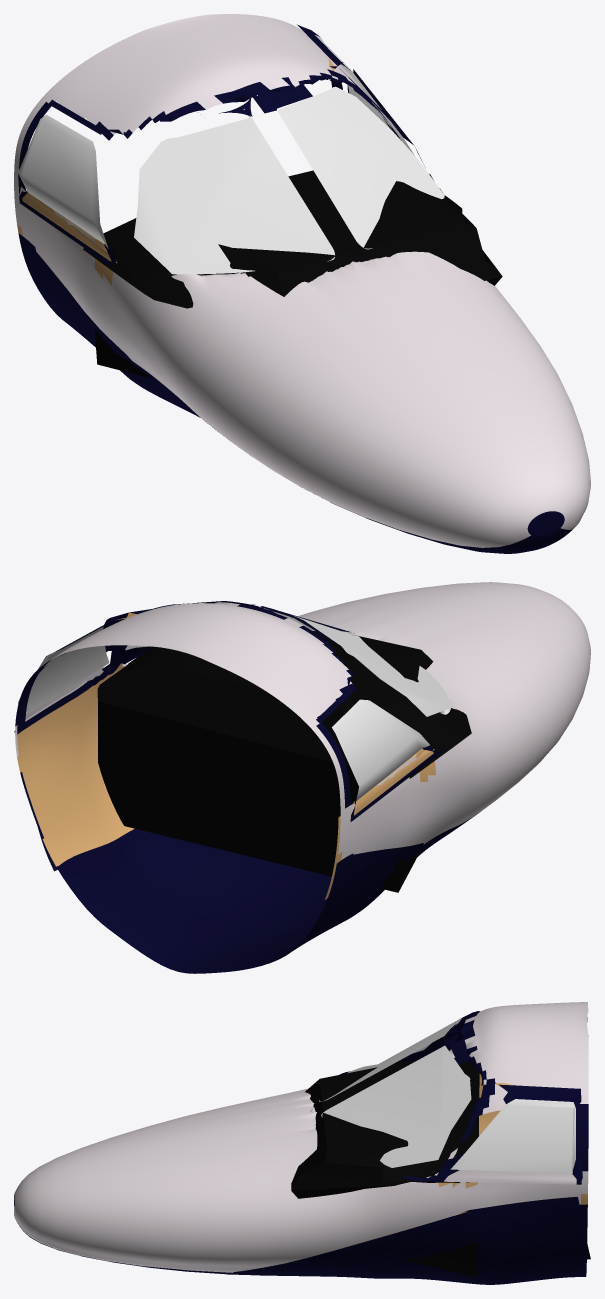
File: planeforfixing.fbx
3 renders of one model, top to bottom at view 1: azimuth 30°, elevation 25°; view 2: azimuth 150°, elevation 25°; view 3: azimuth 270°, elevation 25°, orthographic. The views are drawn at different scales.
Visible parts, largest first — view 1: main, windows-3, Cube.001, window-1; view 2: main, Cube.001, window-1, windows-3, windows-2; view 3: main, Cube.001, windows-3, windows-2.
Boxes of the visible parts, x1,y1,x2,y2 form: main: (14,14,590,553); windows-3: (134,86,444,274); Cube.001: (83,170,502,378); window-1: (18,114,108,248); main: (14,582,590,973); Cube.001: (97,631,471,892); window-1: (332,699,429,800); windows-3: (125,606,450,716); windows-2: (26,627,109,714); main: (14,1002,590,1284); Cube.001: (291,1061,479,1277); windows-3: (319,1017,471,1167); windows-2: (450,1104,573,1173).
Size of the model in its own units: 1335 by 1226 by 2559.
